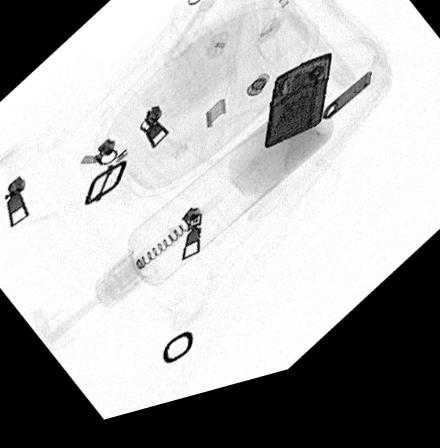Lighter: (261, 71, 330, 162)
